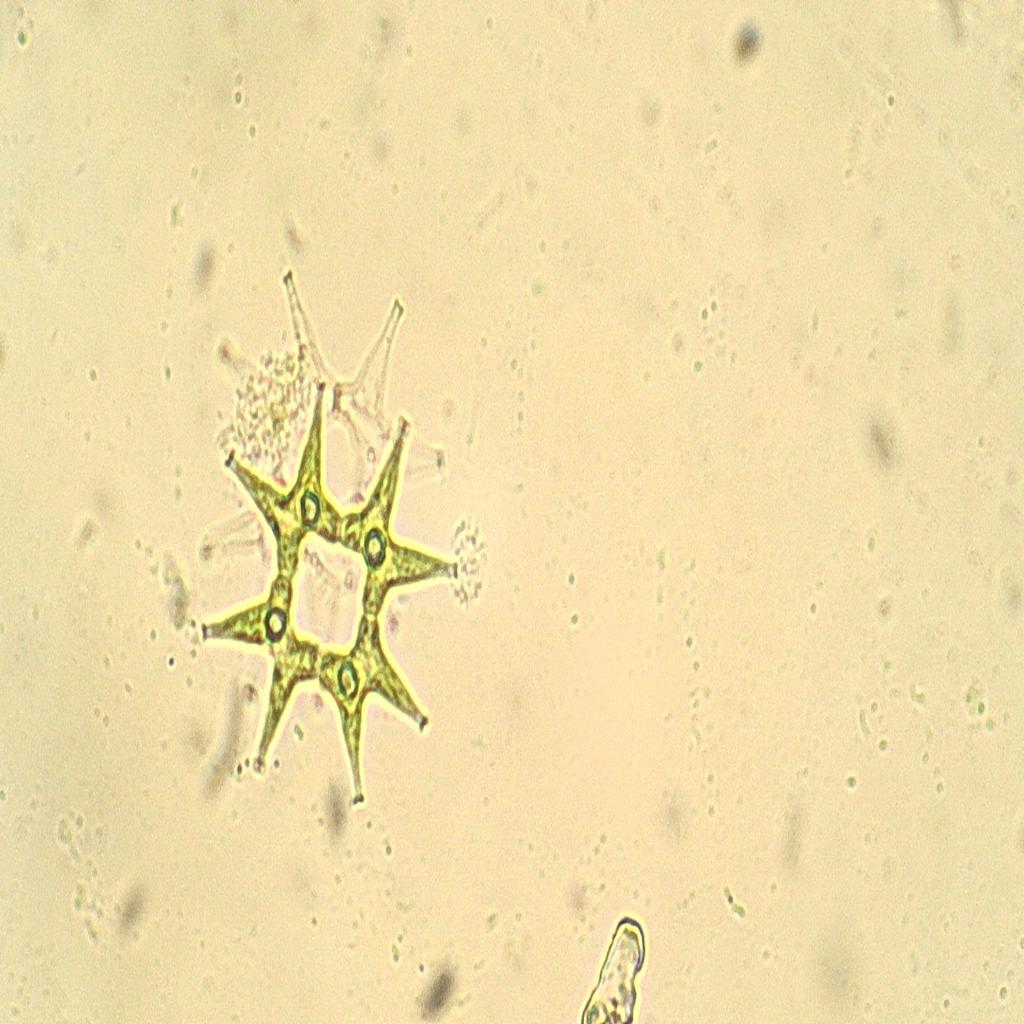Pediastrum_75O: (188, 351, 471, 838)
